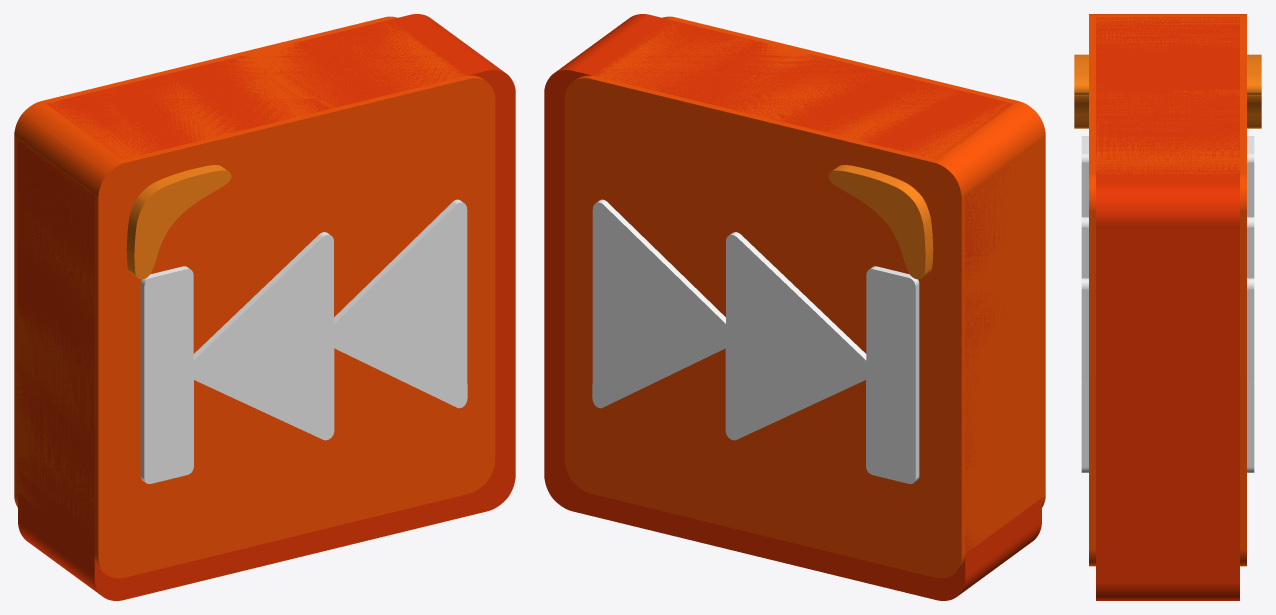
The picture shows the model from 3 angles, left to right: view 1: azimuth 30°, elevation 25°; view 2: azimuth 150°, elevation 25°; view 3: azimuth 270°, elevation 25°; orthographic projection. The views are drawn at different scales.
Parts seen in each view (by area): view 1: U+23EE_layer01_obj00, U+23EE_layer00_obj00, U+23EE_layer02_obj00, U+23EE_layer03_obj00; view 2: U+23EE_layer01_obj00, U+23EE_layer00_obj00, U+23EE_layer02_obj00, U+23EE_layer03_obj00; view 3: U+23EE_layer00_obj00, U+23EE_layer01_obj00, U+23EE_layer02_obj00, U+23EE_layer03_obj00.
Boxes of the visible parts, <box> form: U+23EE_layer01_obj00: <box>14,16,495,578</box>; U+23EE_layer00_obj00: <box>18,14,515,600</box>; U+23EE_layer02_obj00: <box>140,199,467,483</box>; U+23EE_layer03_obj00: <box>126,165,231,279</box>; U+23EE_layer01_obj00: <box>564,16,1045,578</box>; U+23EE_layer00_obj00: <box>544,14,1041,600</box>; U+23EE_layer02_obj00: <box>592,199,919,483</box>; U+23EE_layer03_obj00: <box>828,165,933,279</box>; U+23EE_layer00_obj00: <box>1096,17,1239,600</box>; U+23EE_layer01_obj00: <box>1089,14,1246,566</box>; U+23EE_layer02_obj00: <box>1081,136,1254,472</box>; U+23EE_layer03_obj00: <box>1074,54,1261,128</box>.
Size of the model in its own units: 0.3175 by 0.3174 by 0.13.
